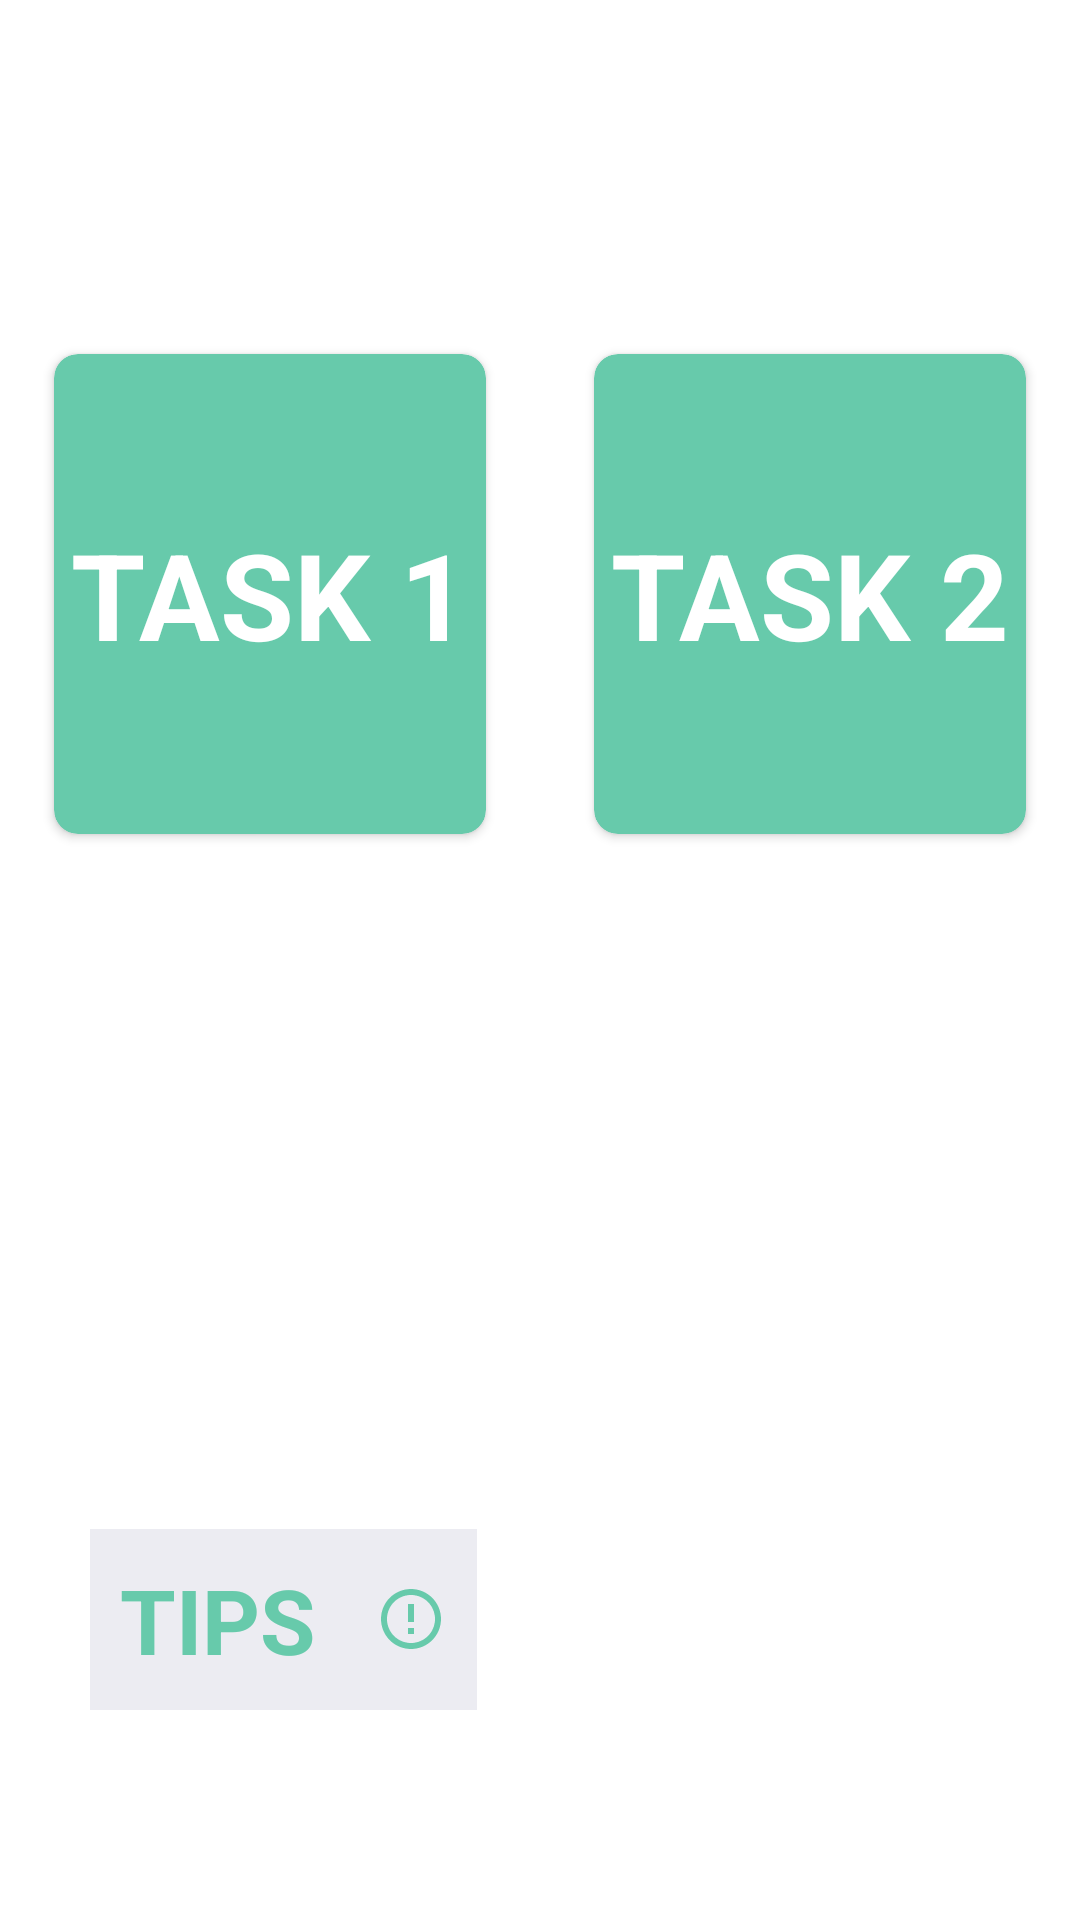

Locate icon controls on the screen. Image size 1080×1920, boxes as (x1, y1, x2, y2).
error: (381, 1589, 441, 1649)
